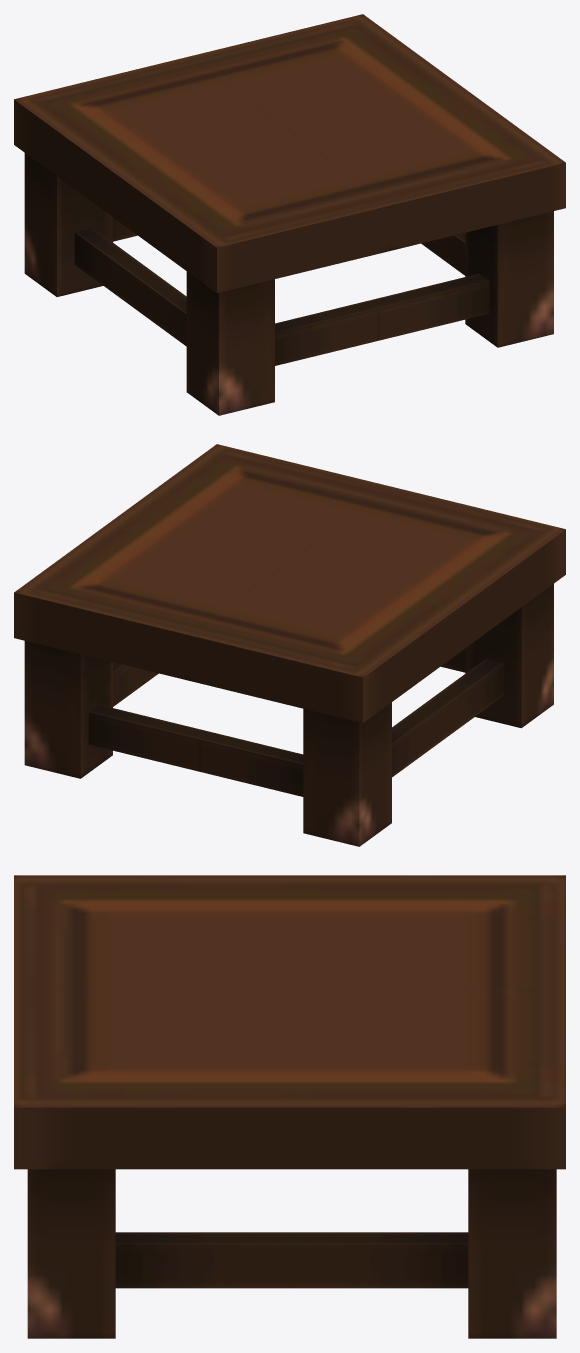
Rendered from Table.gltf.
3 renders of one model, top to bottom at view 1: azimuth 30°, elevation 25°; view 2: azimuth 150°, elevation 25°; view 3: azimuth 270°, elevation 25°, orthographic. The views are drawn at different scales.
Parts seen in each view (by area): view 1: Table; view 2: Table; view 3: Table.
Part boxes in pixels (x1,y1,x2,y2): Table: (14, 14, 565, 415); Table: (14, 444, 565, 846); Table: (14, 875, 565, 1338).
Bounding box in the file's own units: 33.69 × 15.99 × 33.91.
Materials: 1 (1 with a texture image).
